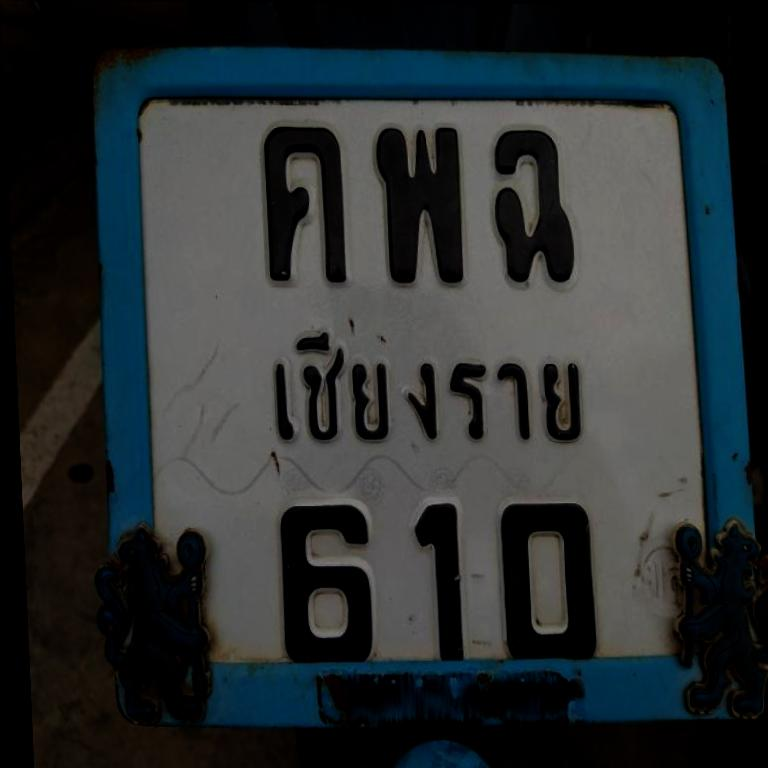license plate: (82, 31, 768, 745)
